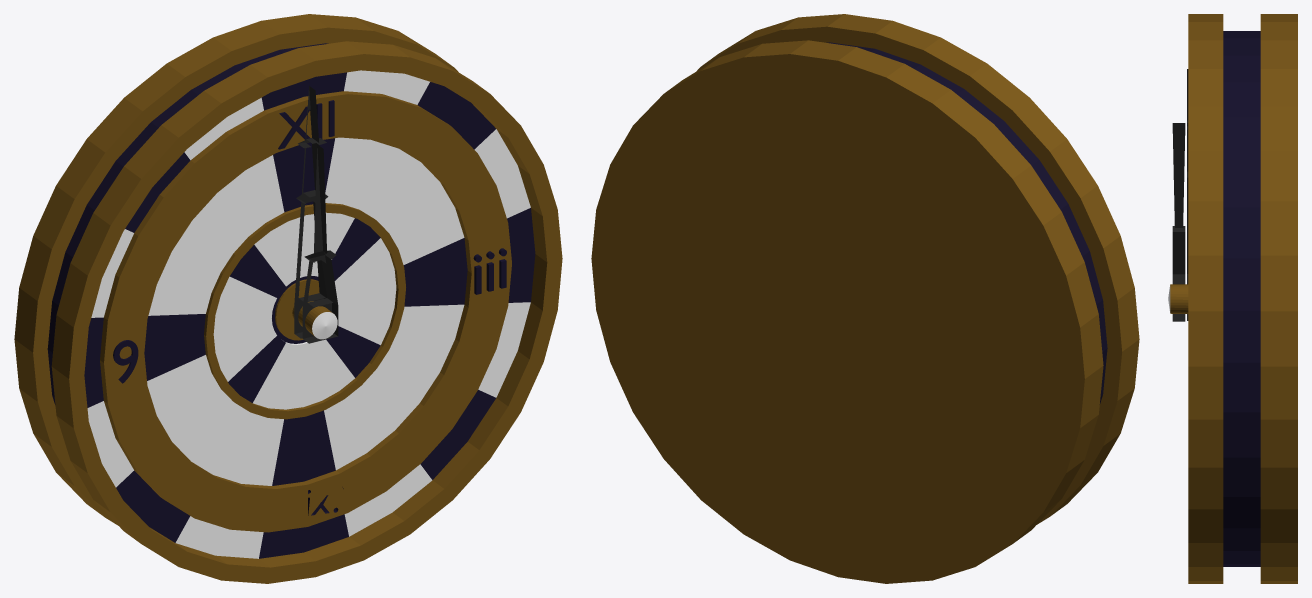
Rendered from TickTockClock.fbx.
3 renders of one model, left to right at view 1: azimuth 30°, elevation 25°; view 2: azimuth 150°, elevation 25°; view 3: azimuth 270°, elevation 25°, orthographic.
Parts seen in each view (by area): view 1: TickTockClock, TickTockClockHourHand, TickTockClockMinuteHand; view 2: TickTockClock; view 3: TickTockClock, TickTockClockHourHand, TickTockClockMinuteHand.
Part boxes in pixels (<box>): TickTockClock: <box>14,14,562,583</box>; TickTockClockHourHand: <box>302,144,338,343</box>; TickTockClockMinuteHand: <box>294,86,328,338</box>; TickTockClock: <box>591,14,1139,583</box>; TickTockClock: <box>1168,14,1297,583</box>; TickTockClockHourHand: <box>1172,123,1185,321</box>; TickTockClockMinuteHand: <box>1187,69,1188,320</box>.
Size of the model in its own units: 29.39 by 29.39 by 6.68.
